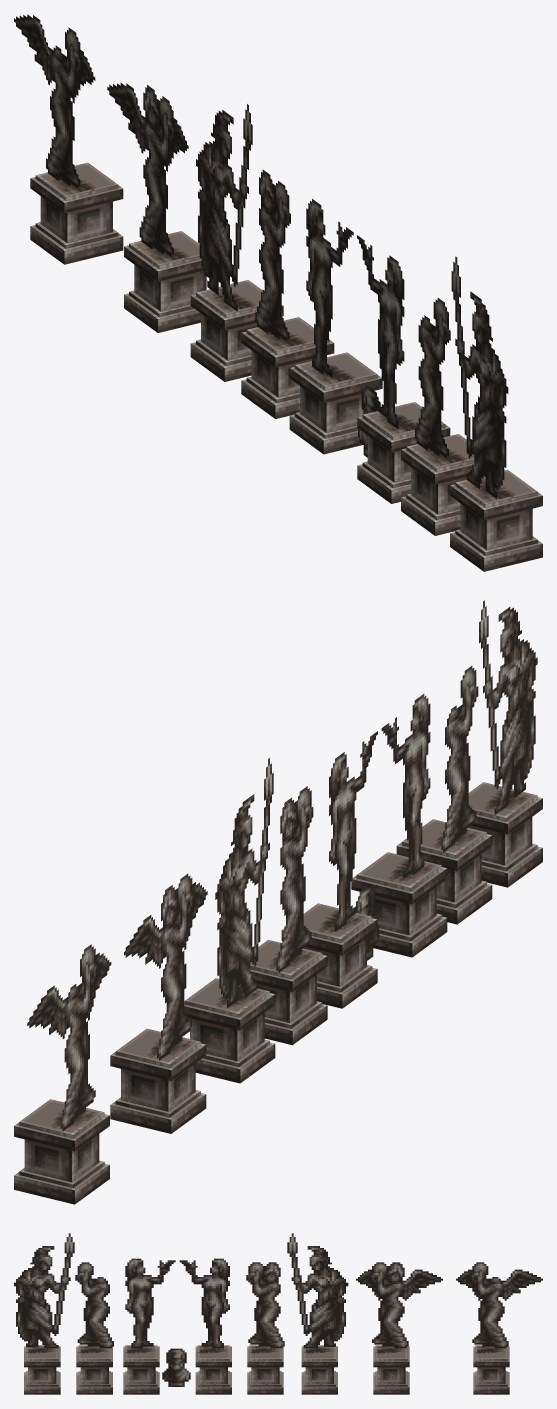
File: ObjMD_Statue_A_Bust_F.FBX
The picture shows the model from 3 angles, top to bottom: view 1: azimuth 30°, elevation 25°; view 2: azimuth 150°, elevation 25°; view 3: azimuth 270°, elevation 25°; orthographic projection. The views are drawn at different scales.
Visible parts, largest first — view 1: ObjMD_Statue_A_Sol_L, ObjMD_Statue_A_wingA, ObjMD_Statue_A_Sol_R, ObjMD_Statue_A_wingB, ObjMD_Statue_A_Girl_R, ObjMD_Statue_A_headB, ObjMD_Statue_A_headA, ObjMD_Statue_A_Girl_L; view 2: ObjMD_Statue_A_Sol_R, ObjMD_Statue_A_wingB, ObjMD_Statue_A_wingA, ObjMD_Statue_A_Sol_L, ObjMD_Statue_A_Girl_L, ObjMD_Statue_A_headB, ObjMD_Statue_A_Girl_R, ObjMD_Statue_A_headA, ObjMD_Statue_A_Bust_F; view 3: ObjMD_Statue_A_Sol_L, ObjMD_Statue_A_Sol_R, ObjMD_Statue_A_wingB, ObjMD_Statue_A_wingA, ObjMD_Statue_A_headB, ObjMD_Statue_A_Girl_L, ObjMD_Statue_A_Girl_R, ObjMD_Statue_A_headA, ObjMD_Statue_A_Bust_F.
Boxes of the visible parts, x1,y1,x2,y2 form: ObjMD_Statue_A_Sol_L: (450, 256, 542, 571); ObjMD_Statue_A_wingA: (14, 14, 123, 264); ObjMD_Statue_A_Sol_R: (190, 104, 283, 381); ObjMD_Statue_A_wingB: (107, 83, 206, 332); ObjMD_Statue_A_Girl_R: (289, 199, 382, 454); ObjMD_Statue_A_headB: (241, 169, 334, 418); ObjMD_Statue_A_headA: (401, 298, 474, 535); ObjMD_Statue_A_Girl_L: (357, 235, 450, 503); ObjMD_Statue_A_Sol_R: (184, 758, 275, 1083); ObjMD_Statue_A_wingB: (110, 873, 207, 1133); ObjMD_Statue_A_wingA: (14, 944, 111, 1204); ObjMD_Statue_A_Sol_L: (447, 600, 542, 887); ObjMD_Statue_A_Girl_L: (351, 694, 447, 957); ObjMD_Statue_A_headB: (250, 786, 327, 1045); ObjMD_Statue_A_Girl_R: (281, 731, 377, 1008); ObjMD_Statue_A_headA: (396, 666, 492, 924); ObjMD_Statue_A_Bust_F: (356, 883, 379, 960); ObjMD_Statue_A_Sol_L: (14, 1233, 74, 1394); ObjMD_Statue_A_Sol_R: (287, 1233, 348, 1394); ObjMD_Statue_A_wingB: (356, 1262, 442, 1394); ObjMD_Statue_A_wingA: (456, 1262, 542, 1394); ObjMD_Statue_A_headB: (246, 1262, 284, 1394); ObjMD_Statue_A_Girl_L: (123, 1258, 175, 1394); ObjMD_Statue_A_Girl_R: (179, 1258, 231, 1394); ObjMD_Statue_A_headA: (75, 1262, 113, 1394); ObjMD_Statue_A_Bust_F: (162, 1348, 190, 1386).
Size of the model in its own units: 112 by 511 by 1634.
